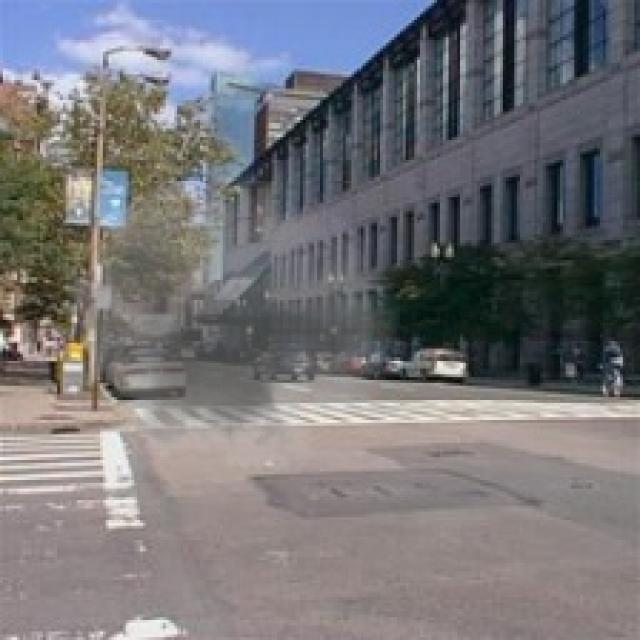smoke: (49, 137, 400, 489)
